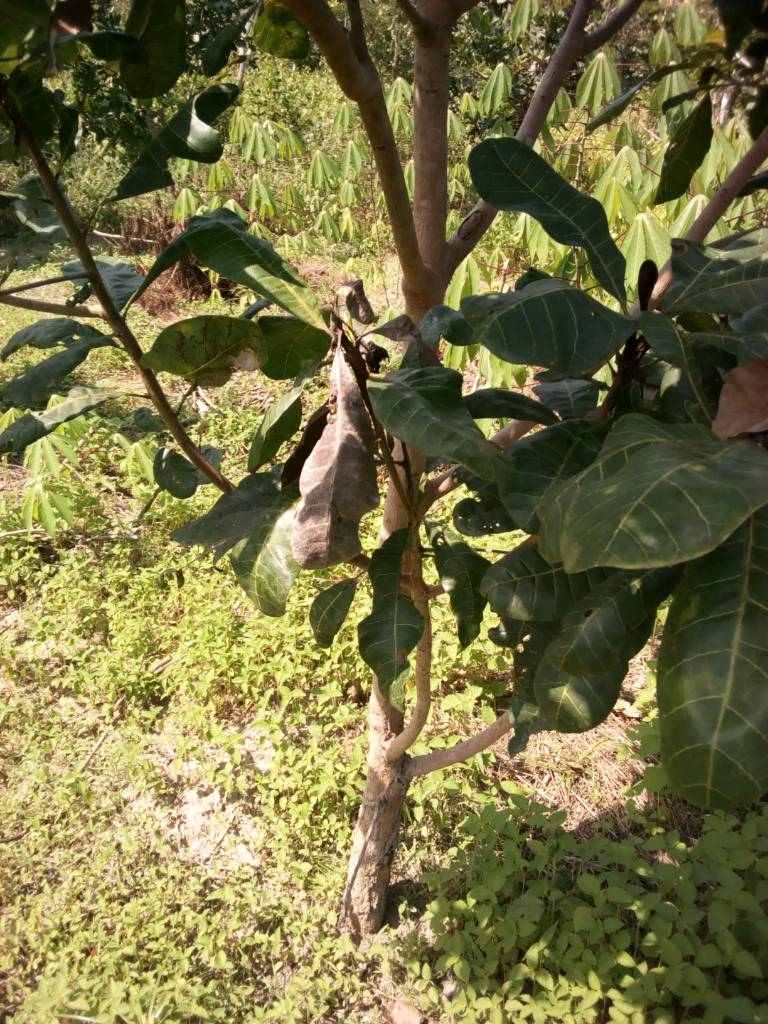Dessèchement des bourgeons: (267, 283, 411, 426)
